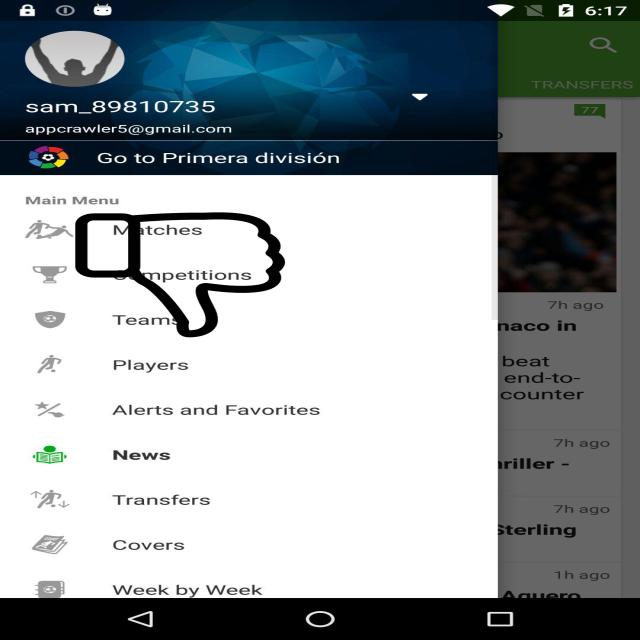obstruction: (72, 212, 288, 338)
